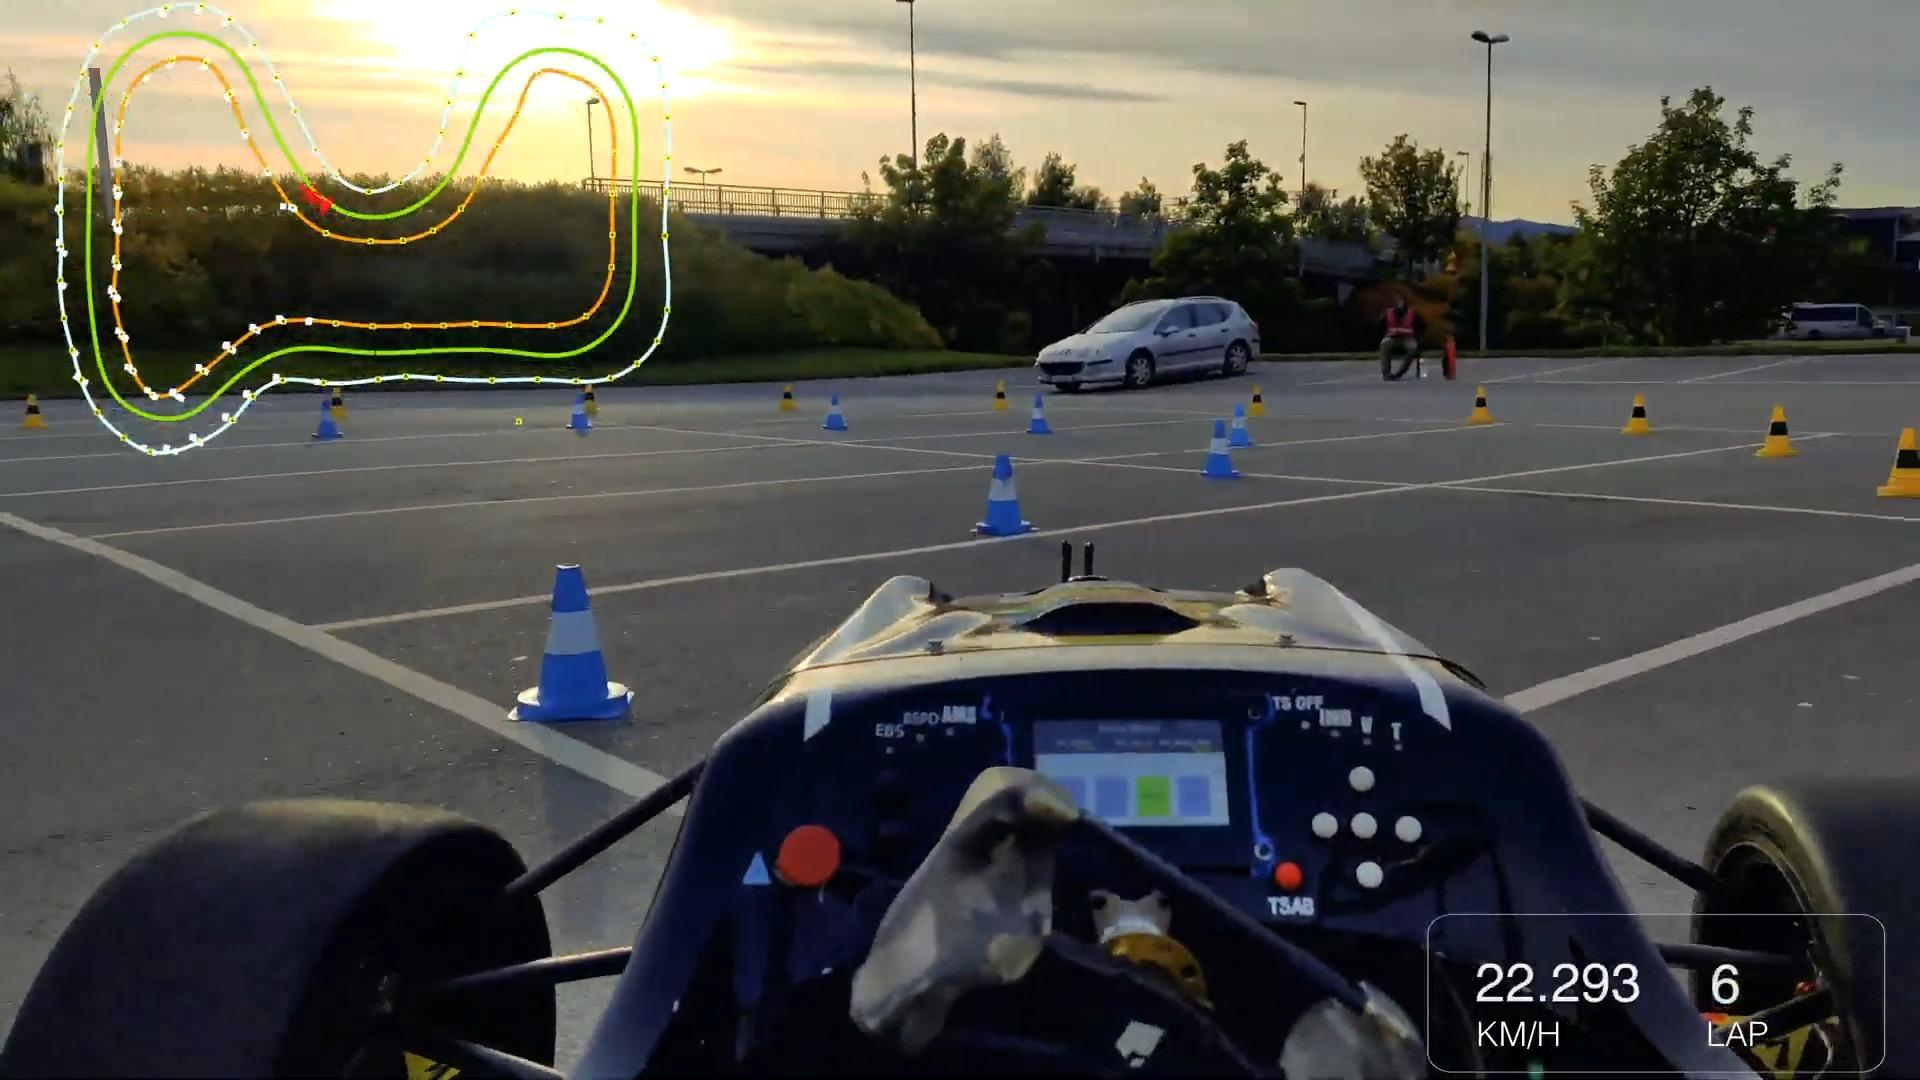blue_cone: (481, 558, 651, 750), (961, 456, 1054, 549), (1192, 409, 1266, 489), (1006, 384, 1079, 455), (811, 381, 882, 443)
yellow_cone: (1741, 384, 1809, 472), (1875, 411, 1920, 510), (1618, 384, 1673, 454), (1455, 369, 1507, 435)
